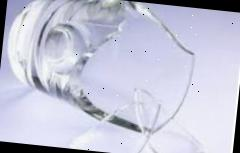glass: (1, 0, 222, 153)
